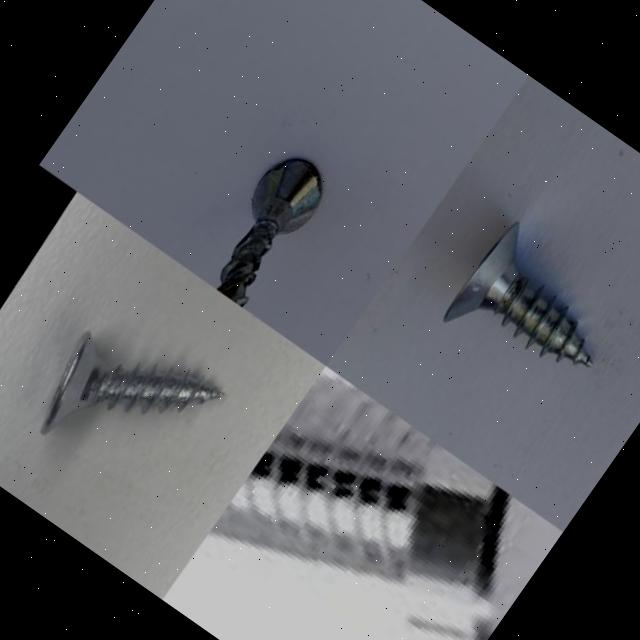Screw: (205, 370, 562, 640), (441, 222, 590, 367), (39, 332, 222, 435), (216, 160, 319, 307)
